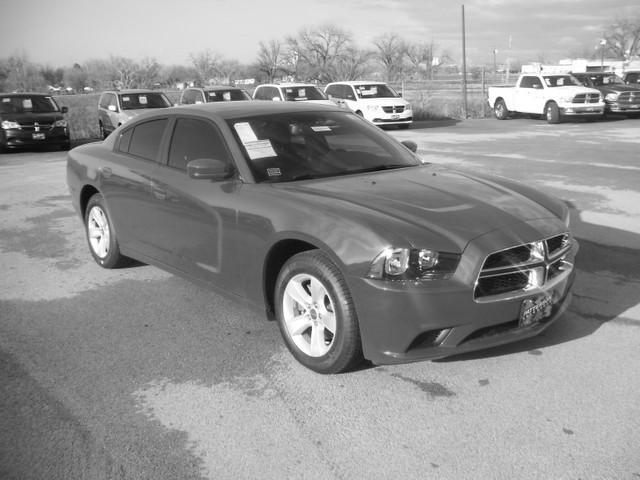car: (62, 96, 584, 379)
